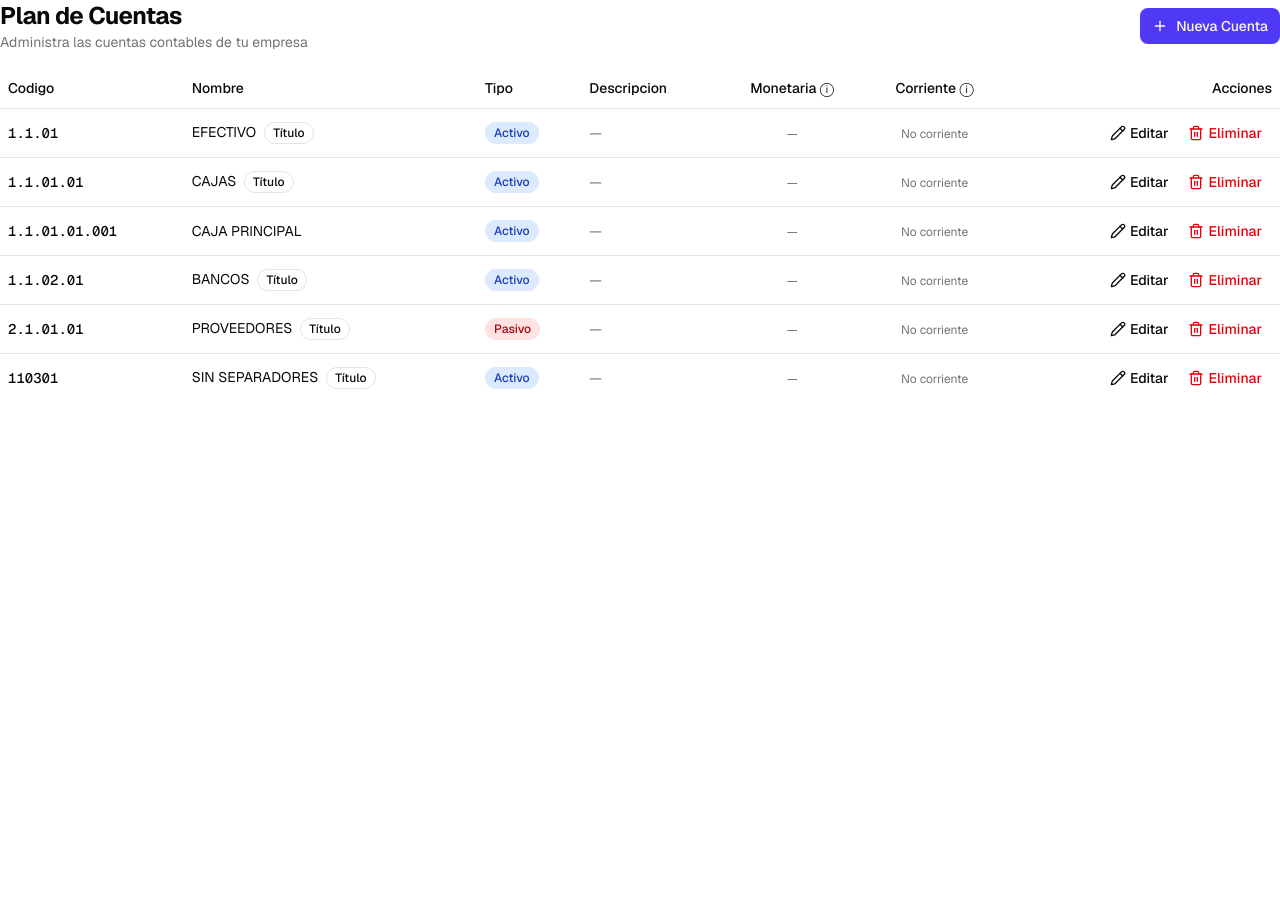
AccountsTable — Nueva cuenta con título padre (SPEC-008 CA-UI) › arranca sin padre: código vacío y editable, con la ayuda de títulos
Click the button "Nueva Cuenta". click: {"x": 1210, "y": 26}
box: top-left (1140, 8), bottom-right (1279, 44)
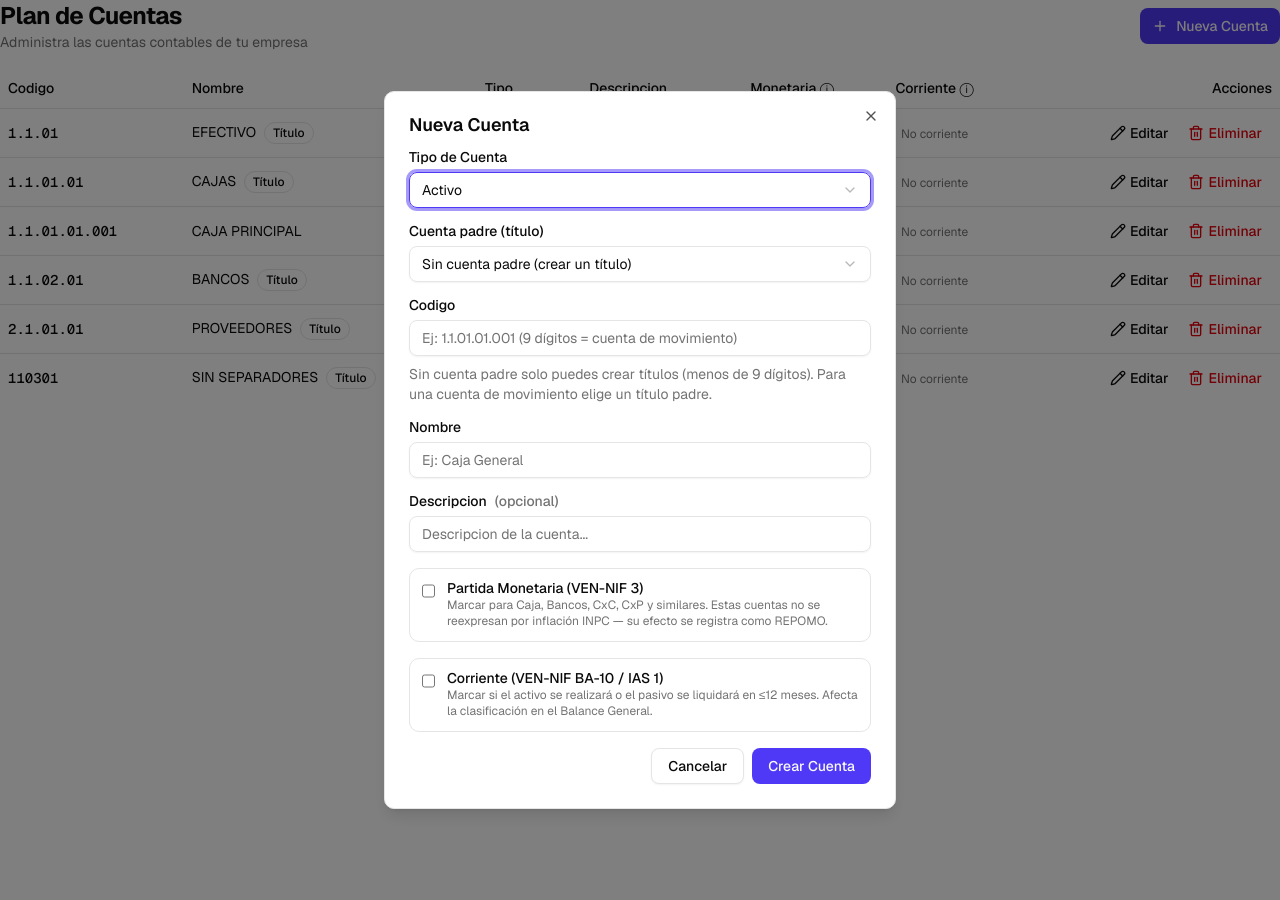
Expected: the dialog is shown, top-left (384, 91), bottom-right (896, 809)
Expected: the dropdown named "Cuenta padre (título)" reads "Sin cuenta padre (crear un título)", top-left (409, 246), bottom-right (871, 282)
Expected: the field labelled "Codigo" is empty, top-left (409, 320), bottom-right (871, 356)
